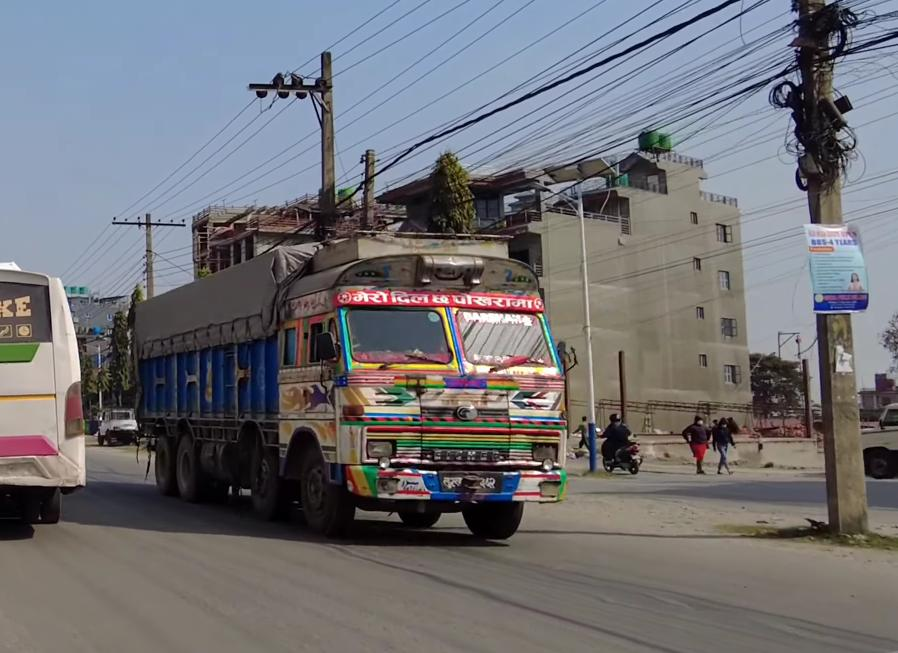bus: (0, 260, 91, 528)
truck: (129, 230, 570, 539)
